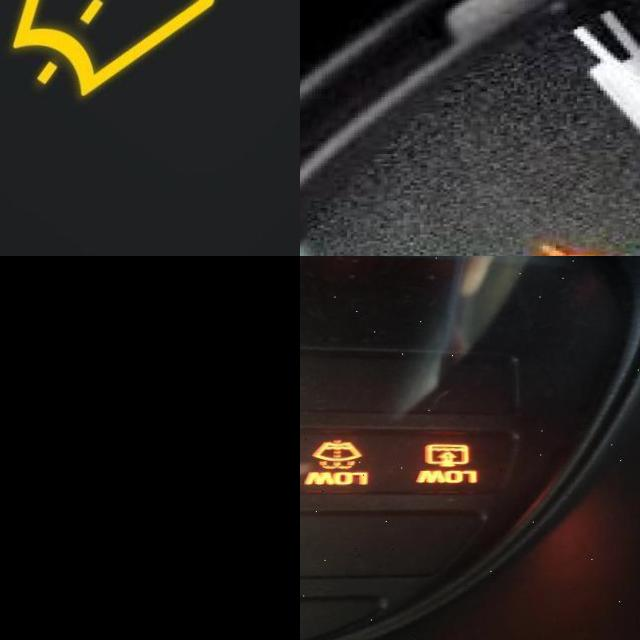Seat Belt: (525, 238, 640, 256)
Washer Fluid: (11, 0, 252, 103), (310, 439, 363, 473)
